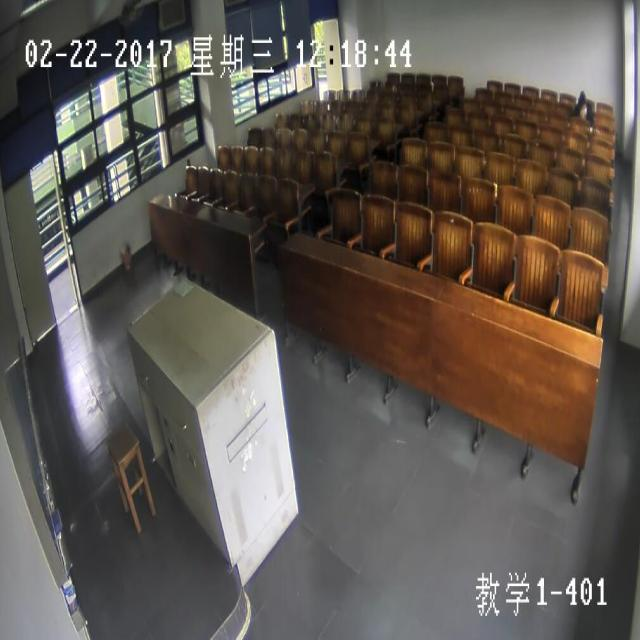person: (578, 89, 585, 105)
